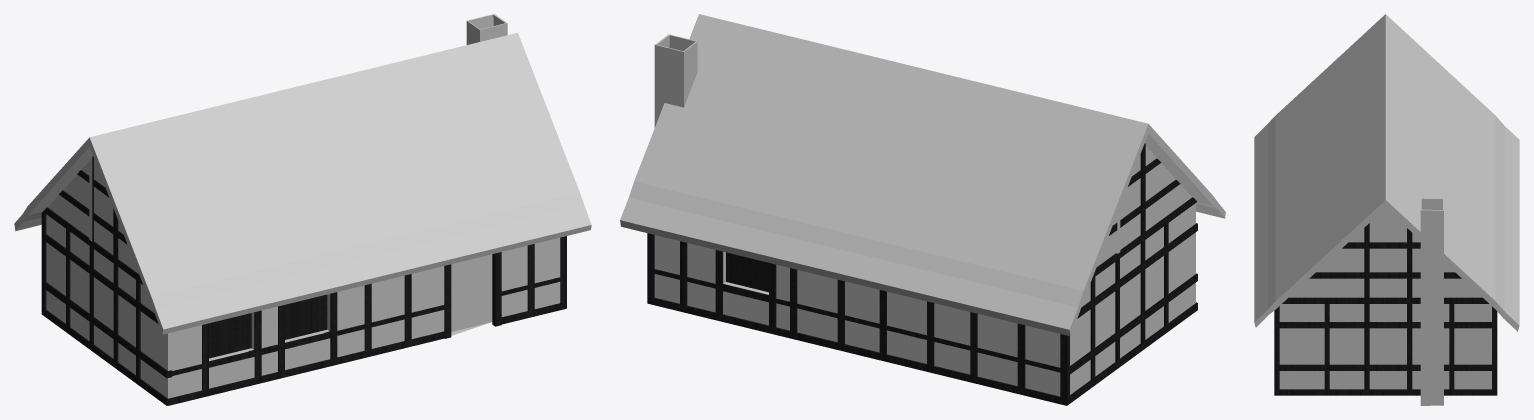
3 renders of one model, left to right at view 1: azimuth 30°, elevation 25°; view 2: azimuth 150°, elevation 25°; view 3: azimuth 270°, elevation 25°, orthographic. The views are drawn at different scales.
Visible parts, largest first — view 1: building1; view 2: building1; view 3: building1.
Part boxes in pixels (x1=…): building1: x1=14, y1=14, x2=591, y2=405; building1: x1=620, y1=14, x2=1225, y2=405; building1: x1=1254, y1=14, x2=1519, y2=405.
Bounding box in the file's own units: 2254 × 1119 × 1330.
